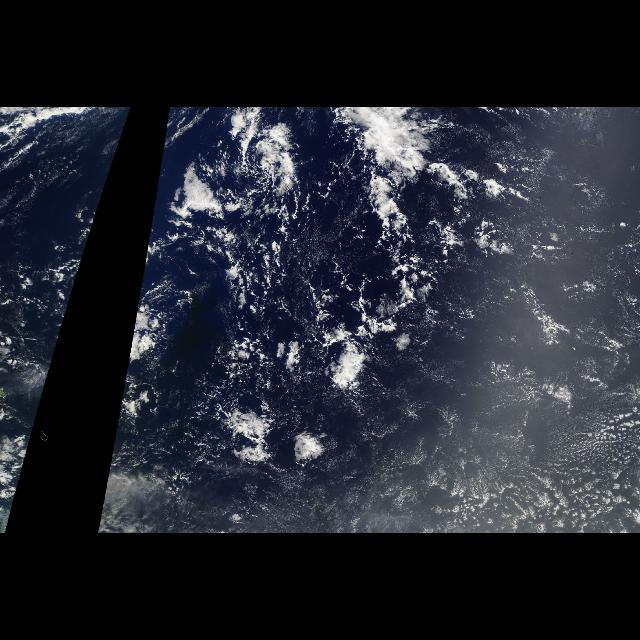Gravel: (190, 118, 638, 532)
